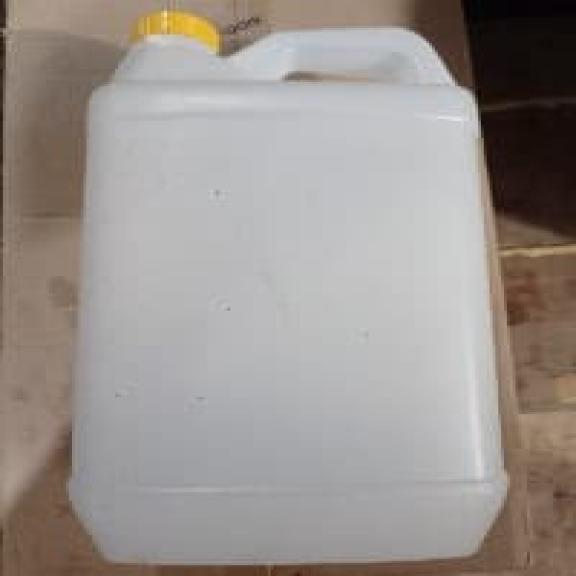Plastik: (85, 33, 504, 560)
